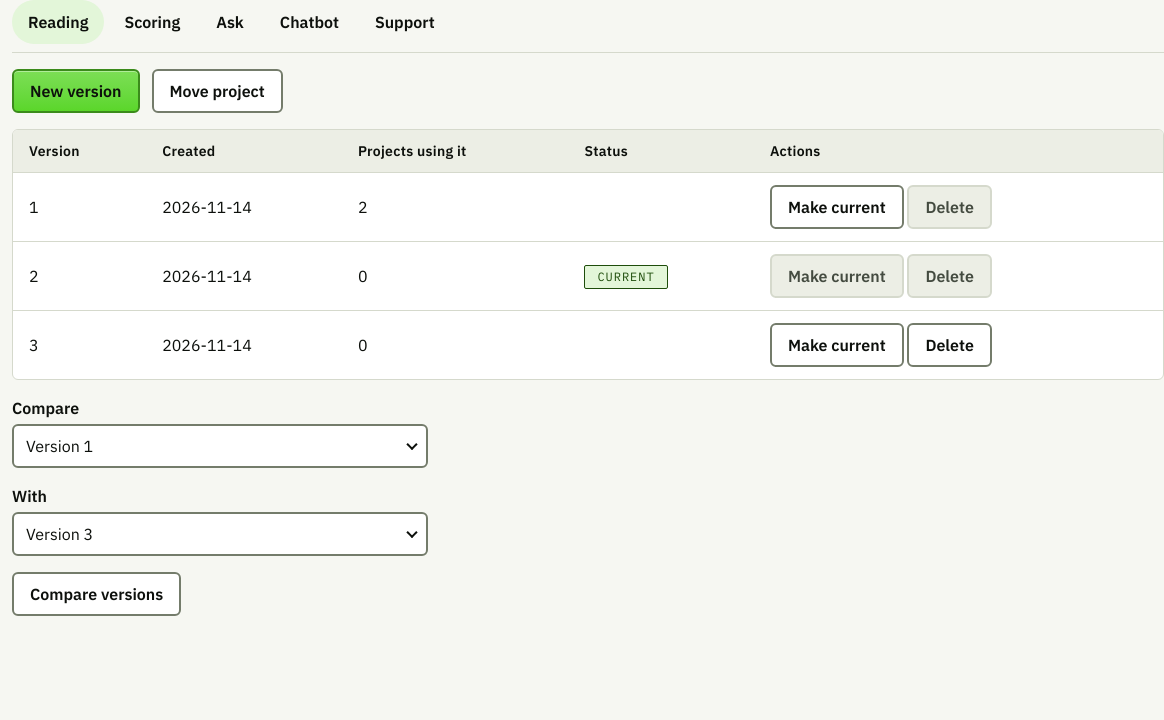
moving a project and comparing › shows two versions side by side with the differences in words
Expected: the element named "Reading versions" is shown, [12, 129, 1163, 380]
Click the button "Compare versions".
click(97, 594)  # box [12, 572, 181, 616]
(page scrolled)
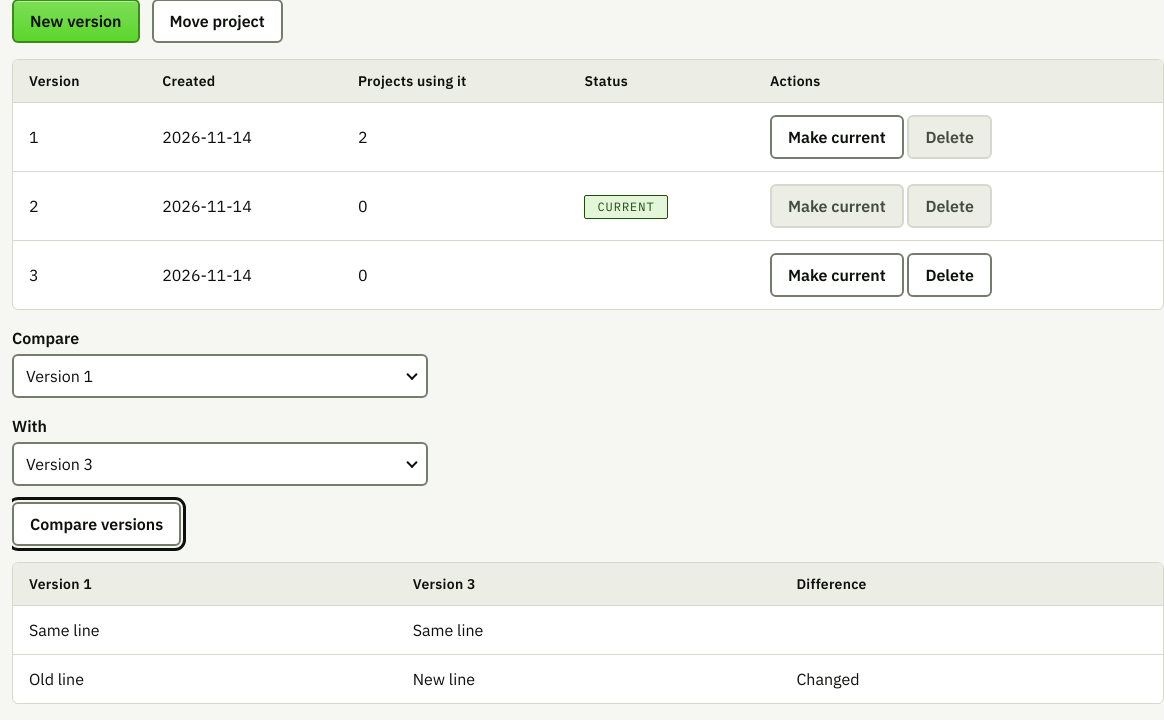
Expected: the text "Old line" is shown, [13, 654, 397, 703]
Expected: the text "New line" is shown, [397, 654, 780, 703]
Expected: the text "Changed" is shown once, [780, 654, 1163, 703]
